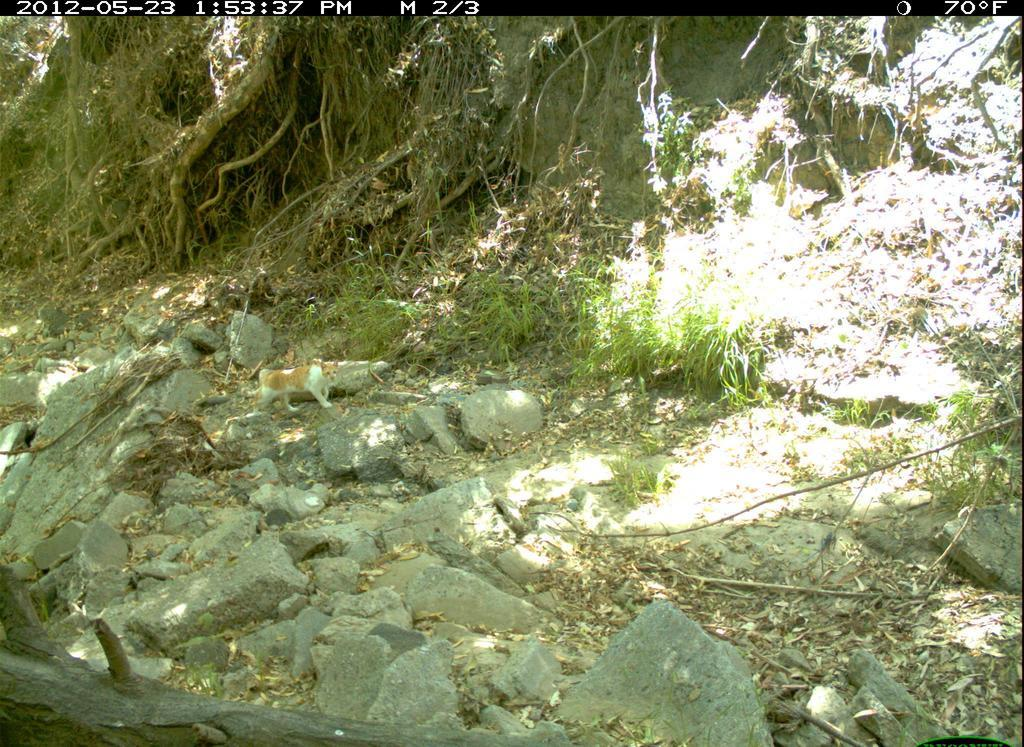cat: (255, 353, 342, 420)
